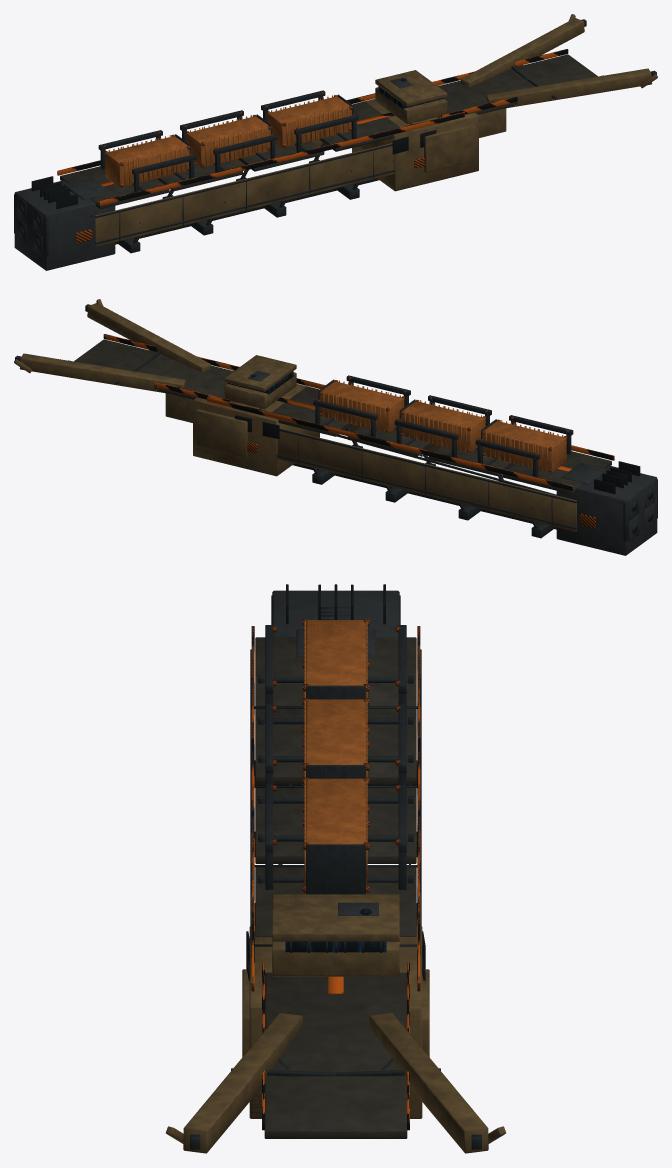
The model's file is place_conveyor_barge.glb.
The picture shows the model from 3 angles, top to bottom: view 1: azimuth 30°, elevation 25°; view 2: azimuth 150°, elevation 25°; view 3: azimuth 270°, elevation 25°; orthographic projection. The views are drawn at different scales.
Parts seen in each view (by area): view 1: LOD0_Barge_Material_Hull, LOD2_Barge_Material_Hull, LOD0_Barge_Material_Container, LOD0_Barge_Material_Deck, LOD1_Barge_Material_Hull, LOD0_Barge_Material_Drive, LOD0_Barge_Material_Structure, LOD2_Barge_Material_Structure, LOD2_Barge_Material_Deck, LOD1_Barge_Material_Deck, LOD1_Barge_Material_Container, LOD1_Barge_Material_Structure (+9 smaller); view 2: LOD2_Barge_Material_Hull, LOD0_Barge_Material_Hull, LOD1_Barge_Material_Hull, LOD0_Barge_Material_Deck, LOD1_Barge_Material_Deck, LOD0_Barge_Material_Structure, LOD0_Barge_Material_Container, LOD1_Barge_Material_Container, LOD1_Barge_Material_Structure, LOD2_Barge_Material_Structure, LOD0_Barge_Material_Drive, LOD2_Barge_Material_Container (+8 smaller); view 3: LOD0_Barge_Material_Deck, LOD0_Barge_Material_Hull, LOD1_Barge_Material_Deck, LOD1_Barge_Material_Hull, LOD2_Barge_Material_Deck, LOD0_Barge_Material_Structure, LOD0_Barge_Material_Container, LOD2_Barge_Material_Hull, LOD1_Barge_Material_Structure, LOD2_Barge_Material_Container, LOD2_Barge_Material_Structure, LOD1_Barge_Material_Container (+8 smaller).
Boxes of the visible parts, left/top/right/bottom form: LOD0_Barge_Material_Hull: left=96, top=14, right=657, bottom=246; LOD2_Barge_Material_Hull: left=95, top=14, right=657, bottom=246; LOD0_Barge_Material_Container: left=105, top=95, right=349, bottom=186; LOD0_Barge_Material_Deck: left=60, top=55, right=596, bottom=208; LOD1_Barge_Material_Hull: left=95, top=14, right=657, bottom=246; LOD0_Barge_Material_Drive: left=15, top=78, right=412, bottom=268; LOD0_Barge_Material_Structure: left=14, top=19, right=655, bottom=256; LOD2_Barge_Material_Structure: left=14, top=19, right=656, bottom=256; LOD2_Barge_Material_Deck: left=60, top=54, right=597, bottom=209; LOD1_Barge_Material_Deck: left=60, top=54, right=597, bottom=208; LOD1_Barge_Material_Container: left=105, top=97, right=351, bottom=186; LOD1_Barge_Material_Structure: left=14, top=21, right=655, bottom=256; LOD2_Barge_Material_Hull: left=14, top=299, right=576, bottom=531; LOD0_Barge_Material_Hull: left=14, top=299, right=575, bottom=530; LOD1_Barge_Material_Hull: left=14, top=299, right=576, bottom=531; LOD0_Barge_Material_Deck: left=74, top=340, right=611, bottom=493; LOD1_Barge_Material_Deck: left=74, top=339, right=610, bottom=493; LOD0_Barge_Material_Structure: left=15, top=304, right=652, bottom=537; LOD0_Barge_Material_Container: left=323, top=380, right=566, bottom=471; LOD1_Barge_Material_Container: left=320, top=381, right=565, bottom=471; LOD1_Barge_Material_Structure: left=15, top=304, right=657, bottom=541; LOD2_Barge_Material_Structure: left=15, top=304, right=657, bottom=541; LOD0_Barge_Material_Drive: left=254, top=372, right=653, bottom=553; LOD2_Barge_Material_Container: left=320, top=382, right=566, bottom=472; LOD0_Barge_Material_Deck: left=257, top=638, right=414, bottom=1137; LOD0_Barge_Material_Hull: left=167, top=894, right=504, bottom=1151; LOD1_Barge_Material_Deck: left=255, top=637, right=416, bottom=1138; LOD1_Barge_Material_Hull: left=166, top=894, right=505, bottom=1153; LOD2_Barge_Material_Deck: left=255, top=637, right=416, bottom=1138; LOD0_Barge_Material_Structure: left=191, top=607, right=480, bottom=1148; LOD0_Barge_Material_Container: left=304, top=620, right=367, bottom=885; LOD2_Barge_Material_Hull: left=166, top=894, right=505, bottom=1153; LOD1_Barge_Material_Structure: left=191, top=595, right=480, bottom=1149; LOD2_Barge_Material_Container: left=306, top=620, right=365, bottom=844; LOD2_Barge_Material_Structure: left=190, top=595, right=481, bottom=1149; LOD1_Barge_Material_Container: left=304, top=620, right=367, bottom=844.
Bounding box in the file's own units: 72.85 × 10.03 × 18.15.
Materials: 9 (9 with a texture image).
